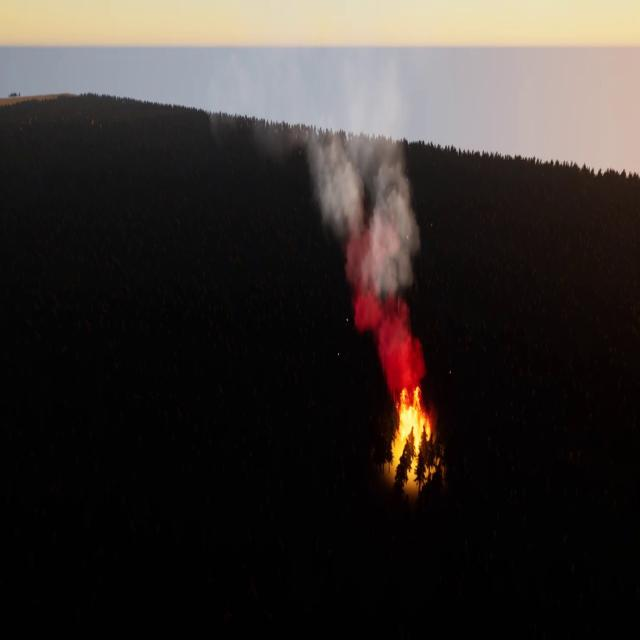fire: (392, 387, 436, 448)
smoke: (280, 132, 427, 383)
